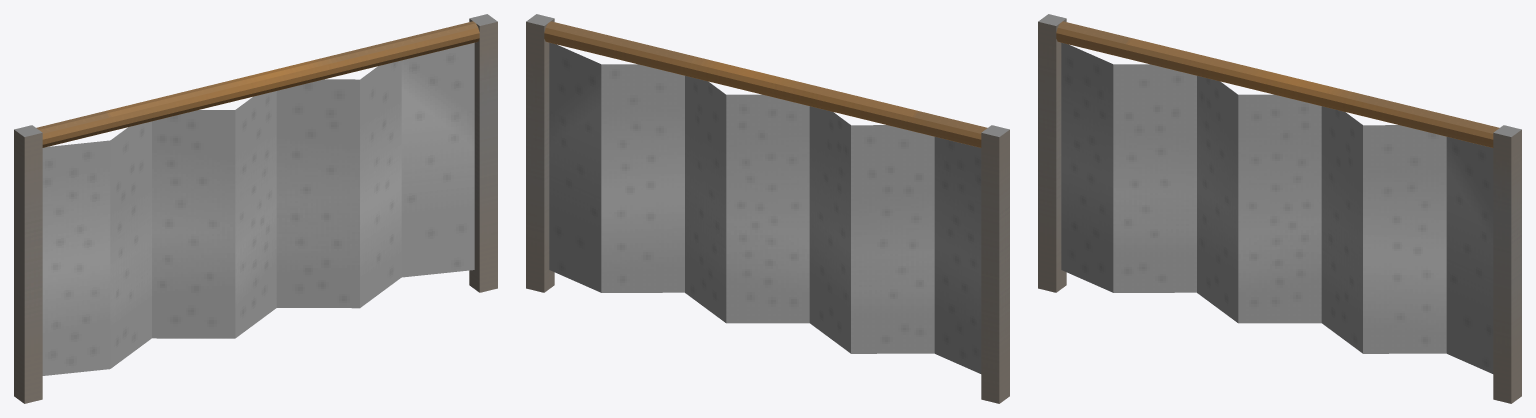
File: changingscreen.gltf
3 renders of one model, left to right at view 1: azimuth 30°, elevation 25°; view 2: azimuth 150°, elevation 25°; view 3: azimuth 330°, elevation 25°, orthographic.
Parts seen in each view (by area): view 1: plane, cube (×2), cylinder; view 2: plane, cube (×2), cylinder; view 3: plane, cube (×2), cylinder.
Boxes of the visible parts, x1,y1,x2,y2 form: plane: (42, 42, 474, 375); cube (×2): (14, 14, 497, 403); cylinder: (36, 21, 479, 147); plane: (549, 42, 981, 373); cube (×2): (526, 14, 1009, 403); cylinder: (544, 21, 987, 147); plane: (1061, 42, 1493, 373); cube (×2): (1038, 14, 1521, 403); cylinder: (1056, 21, 1499, 147).
Bounding box in the file's own units: 3.25 × 1.75 × 0.25.
Materials: 1 (1 with a texture image).
